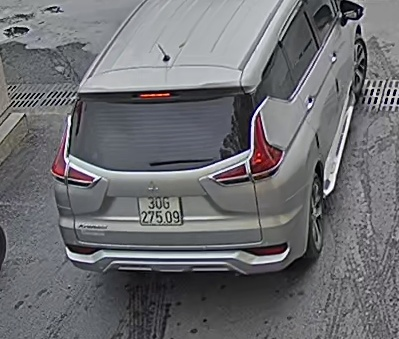vehicle plate: (133, 194, 182, 225)
